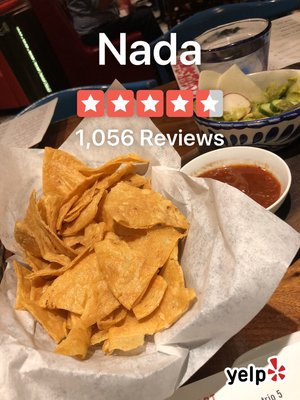soup: (8, 147, 197, 361)
sushi: (191, 67, 300, 150), (184, 146, 291, 216)
